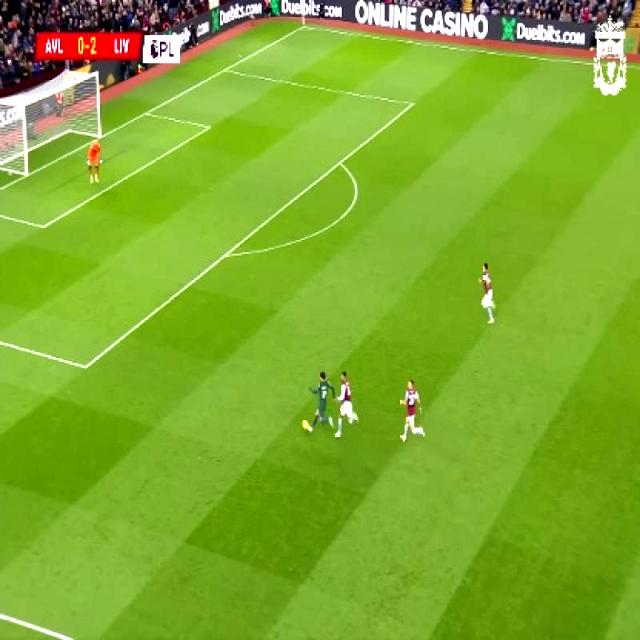bigarea_bottom_inner: (76, 352, 94, 378)
bigarea_top_inner: (404, 92, 419, 112)
bigarea_top_outter: (217, 60, 231, 77)
bottom_arc_area_intersection: (218, 243, 234, 263)
corner: (296, 18, 312, 32)
smallarea_bottom_inner: (34, 212, 52, 238)
smallarea_top_inner: (200, 117, 215, 135)
smallarea_top_outter: (138, 103, 152, 122)
top_arc_area_intersection: (331, 152, 346, 171)
